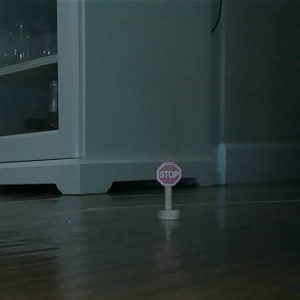stop sign: (153, 160, 184, 220)
